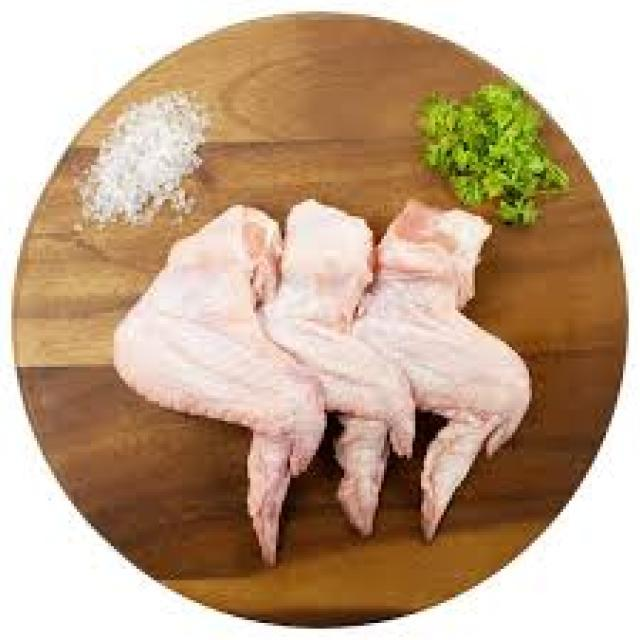wing: (126, 198, 324, 537), (386, 182, 524, 540), (282, 188, 419, 516)
